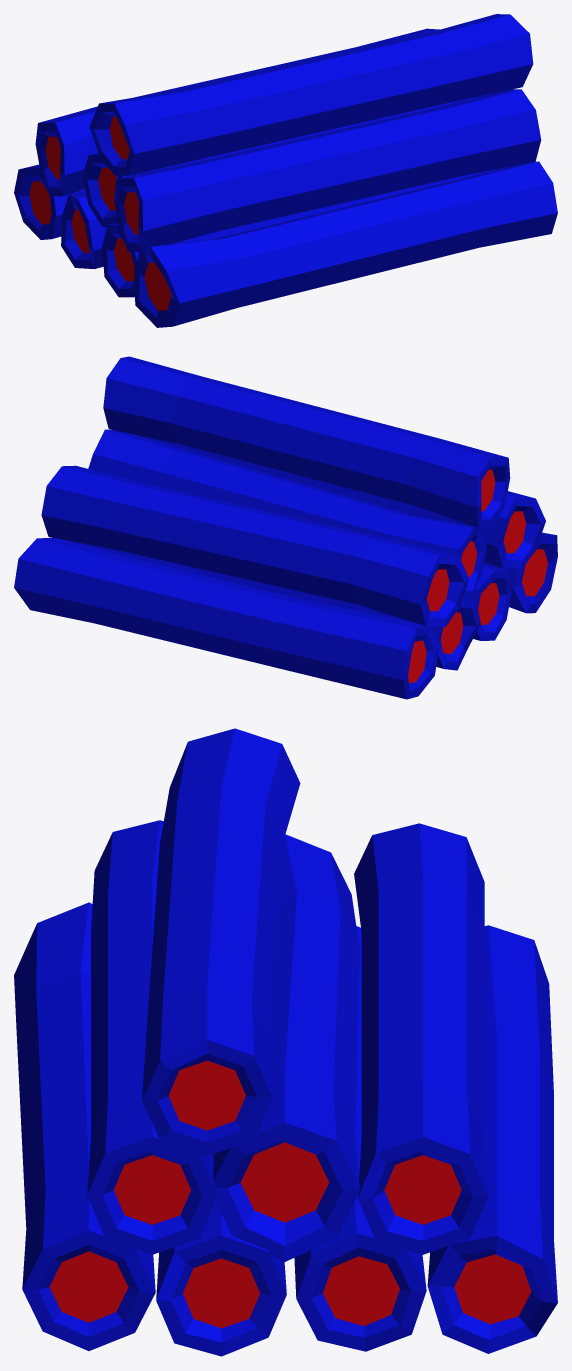
Rendered from SM_Long_LogStack1.fbx.
The picture shows the model from 3 angles, top to bottom: view 1: azimuth 30°, elevation 25°; view 2: azimuth 150°, elevation 25°; view 3: azimuth 270°, elevation 25°; orthographic projection. The views are drawn at different scales.
Parts seen in each view (by area): view 1: SM_Long_LogStack1; view 2: SM_Long_LogStack1; view 3: SM_Long_LogStack1.
Boxes of the visible parts, x1,y1,x2,y2 form: SM_Long_LogStack1: [14, 14, 557, 327]; SM_Long_LogStack1: [14, 356, 557, 699]; SM_Long_LogStack1: [14, 728, 557, 1356].
Bounding box in the file's own units: 196 × 88.34 × 137.
